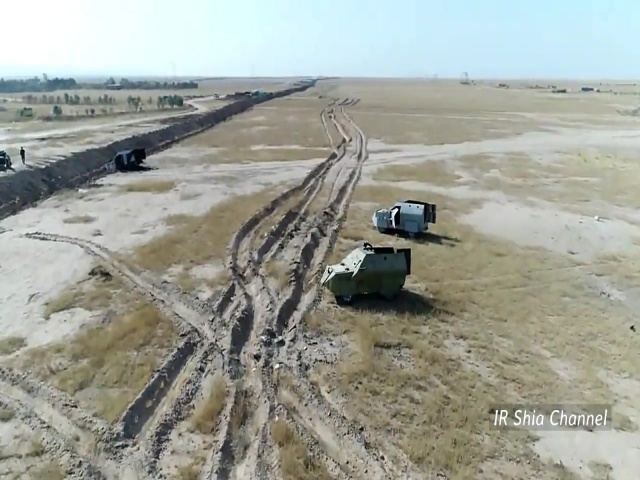vehicle: (319, 244, 414, 304), (373, 201, 439, 238), (109, 148, 148, 171)
